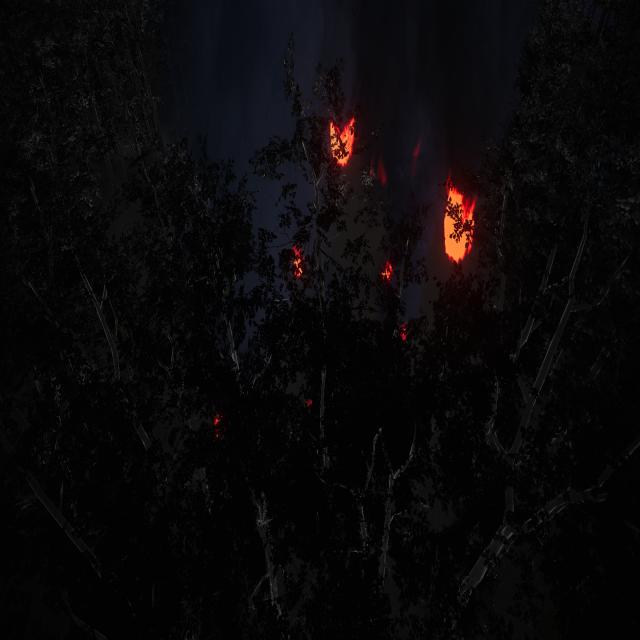Human: (399, 177, 432, 215)
